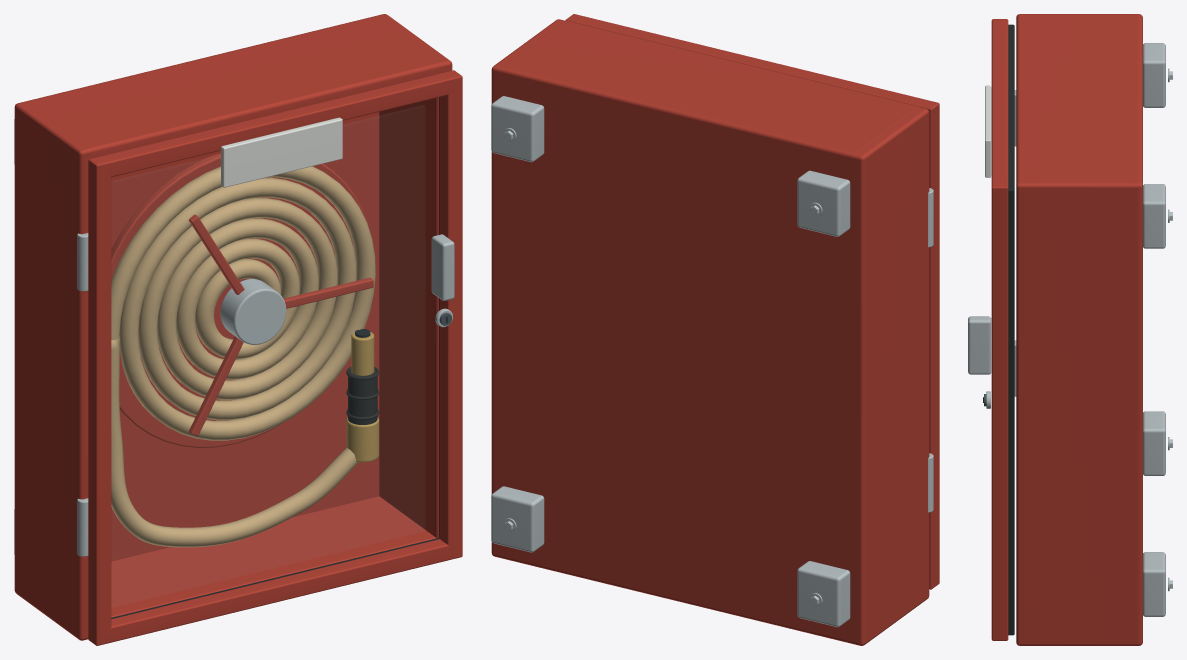
Rendered from city-fire-hose-cabinet.glb.
The picture shows the model from 3 angles, left to right: view 1: azimuth 30°, elevation 25°; view 2: azimuth 150°, elevation 25°; view 3: azimuth 270°, elevation 25°; orthographic projection. The views are drawn at different scales.
Parts seen in each view (by area): view 1: Continuous coiled fire hose, Cabinet folded side, Cabinet rear pan, Cabinet folded horizontal side.001, Cabinet folded side.001, Cabinet folded horizontal side, Front door frame upright, Front door frame upright.001, Front door frame rail, Front door frame rail.001, Hose nozzle lead, Reel rear disc (+12 smaller); view 2: Cabinet rear pan, Cabinet folded side, Cabinet folded horizontal side.001, Front door frame upright, Front door frame rail.001, Wall mounting lug.002, Wall mounting lug.003, Wall mounting lug, Wall mounting lug.001; view 3: Cabinet folded side.001, Cabinet folded horizontal side.001, Front door frame upright.001, Cabinet rear pan, Front door gasket upright.001, Front door frame rail.001, Wall mounting lug, Wall mounting lug.001, Wall mounting lug.002, Wall mounting lug.003, Door pull, Front door gasket rail.001 (+2 smaller).
Boxes of the visible parts, bbox=[...] form: Continuous coiled fire hose: bbox=[111, 166, 375, 440]; Cabinet folded side: bbox=[15, 103, 93, 640]; Cabinet rear pan: bbox=[14, 14, 389, 592]; Cabinet folded horizontal side.001: bbox=[26, 16, 443, 158]; Cabinet folded side.001: bbox=[379, 15, 452, 537]; Cabinet folded horizontal side: bbox=[111, 496, 436, 617]; Front door frame upright: bbox=[88, 156, 111, 645]; Front door frame upright.001: bbox=[439, 70, 462, 559]; Front door frame rail: bbox=[105, 539, 454, 643]; Front door frame rail.001: bbox=[102, 73, 454, 177]; Hose nozzle lead: bbox=[111, 336, 358, 547]; Reel rear disc: bbox=[111, 152, 369, 447]; Cabinet rear pan: bbox=[491, 62, 867, 645]; Cabinet folded side: bbox=[861, 107, 929, 644]; Cabinet folded horizontal side.001: bbox=[503, 21, 919, 153]; Front door frame upright: bbox=[918, 100, 939, 589]; Front door frame rail.001: bbox=[574, 17, 929, 107]; Wall mounting lug.002: bbox=[491, 486, 544, 552]; Wall mounting lug.003: bbox=[491, 96, 544, 162]; Wall mounting lug: bbox=[797, 561, 850, 627]; Wall mounting lug.001: bbox=[797, 170, 850, 236]; Cabinet folded side.001: bbox=[1016, 180, 1138, 645]; Cabinet folded horizontal side.001: bbox=[1016, 17, 1138, 181]; Front door frame upright.001: bbox=[991, 181, 1008, 640]; Cabinet rear pan: bbox=[1128, 14, 1142, 645]; Front door gasket upright.001: bbox=[1008, 186, 1014, 635]; Front door frame rail.001: bbox=[991, 23, 1008, 183]; Wall mounting lug: bbox=[1143, 411, 1165, 475]; Wall mounting lug.001: bbox=[1143, 43, 1165, 107]; Wall mounting lug.002: bbox=[1143, 552, 1165, 616]; Wall mounting lug.003: bbox=[1143, 184, 1165, 248]; Door pull: bbox=[968, 316, 991, 374]; Front door gasket rail.001: bbox=[1008, 27, 1014, 186].
Bounding box in the file's own units: 0.7855 × 0.981 × 0.3935.
